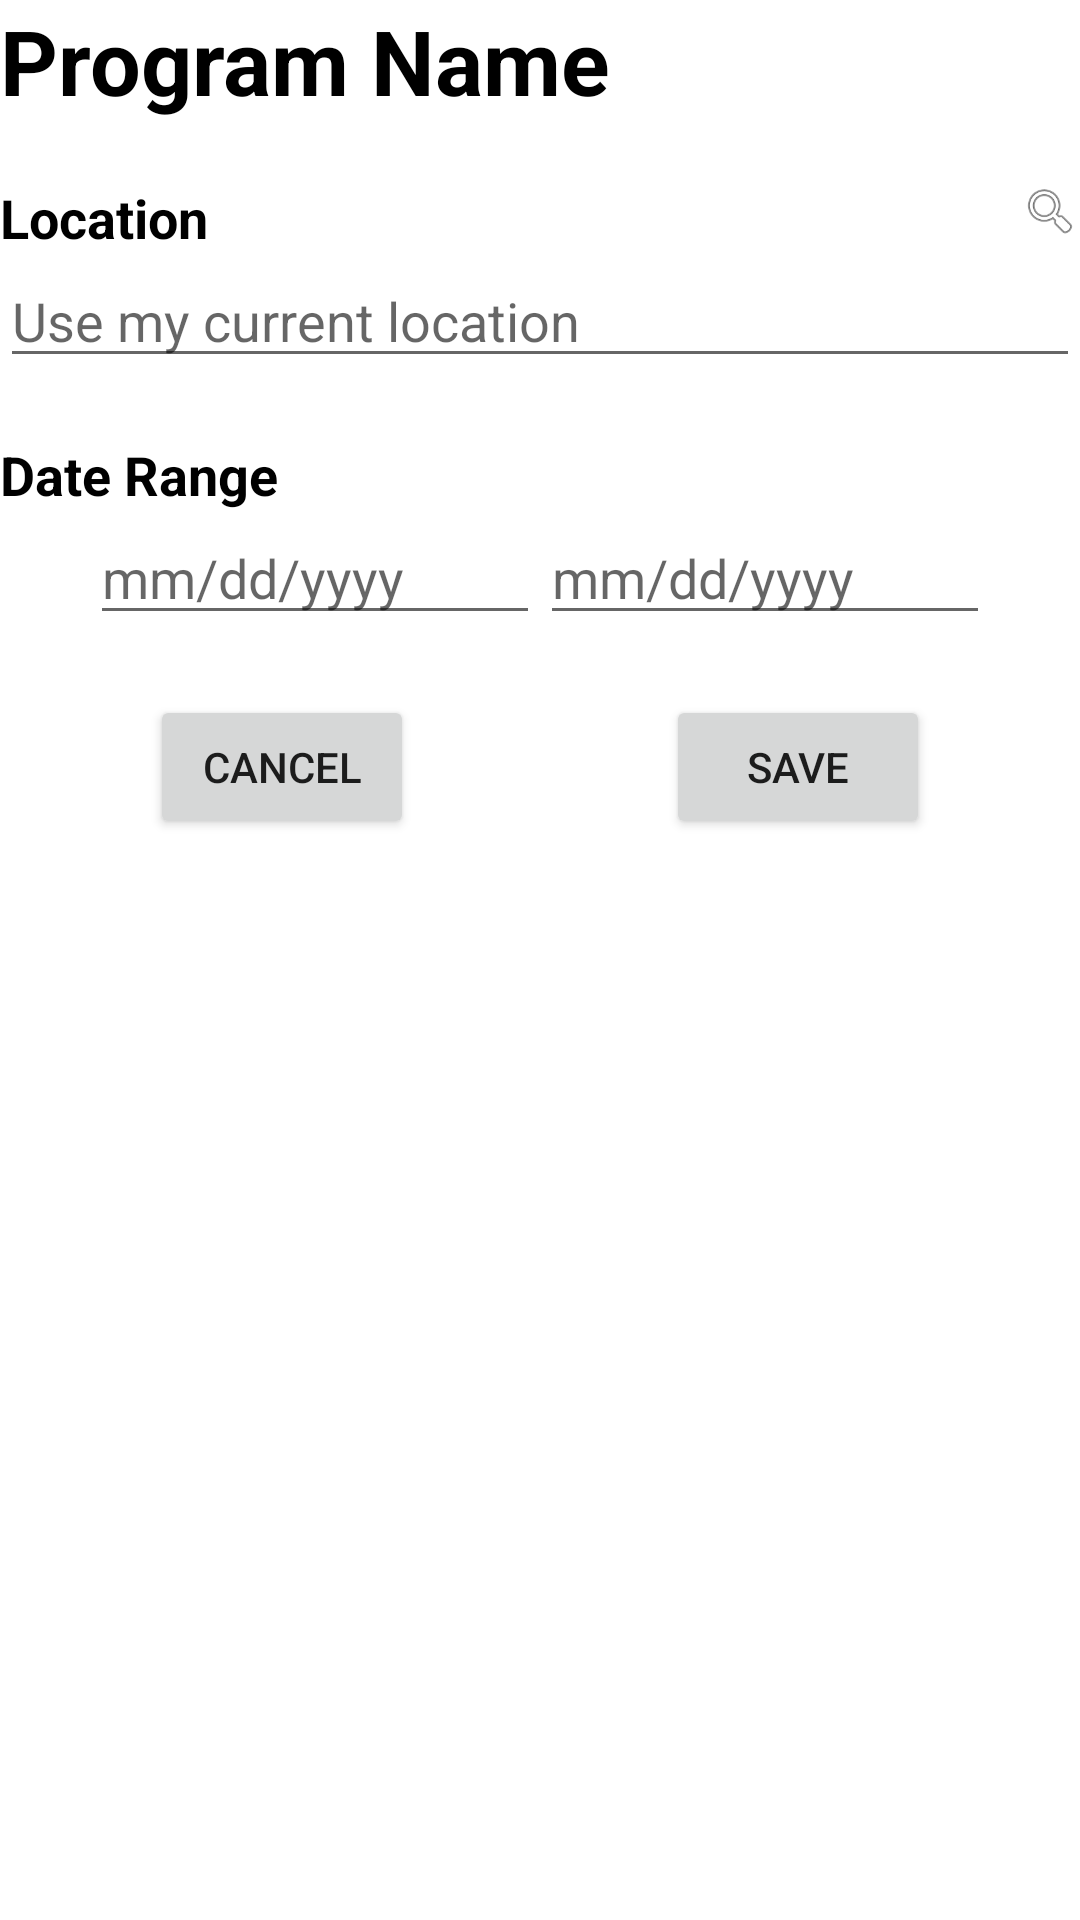

Where to tap for icons on this 1080×1920 app screen, as (x,y):
search: (1050,211)
